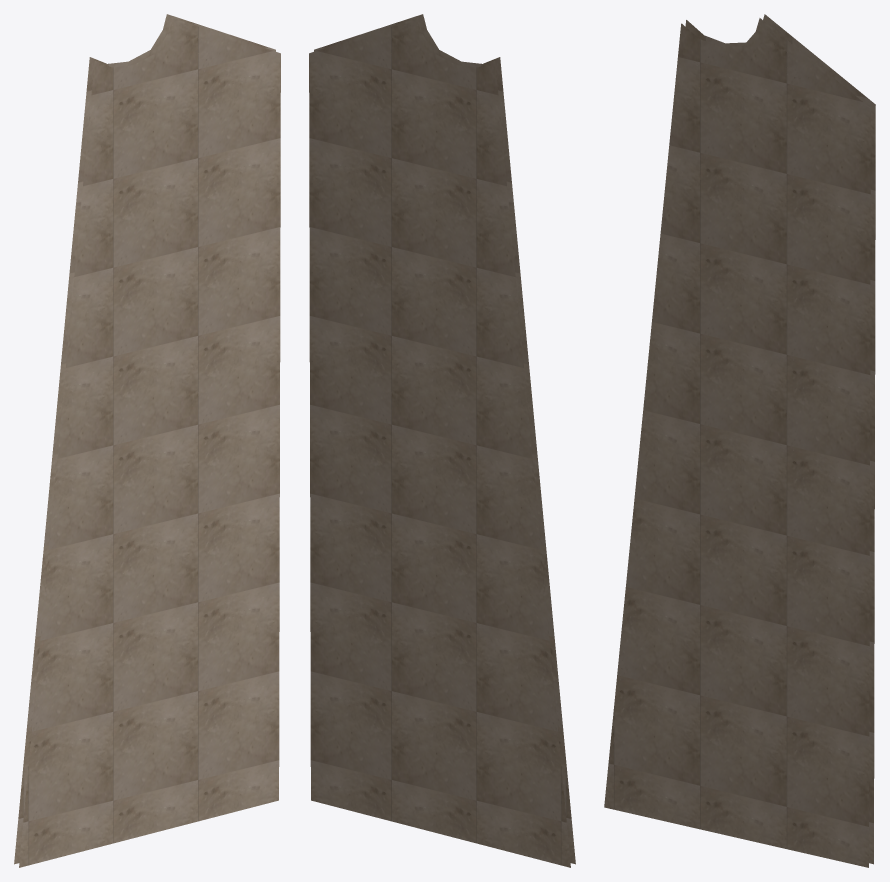
Rendered from floor_75.obj.
3 renders of one model, left to right at view 1: azimuth 30°, elevation 25°; view 2: azimuth 150°, elevation 25°; view 3: azimuth 330°, elevation 25°, orthographic.
Visible parts, largest first — view 1: floor_75; view 2: floor_75; view 3: floor_75.
Part boxes in pixels (x1=…): floor_75: x1=14, y1=14, x2=280, y2=867; floor_75: x1=309, y1=14, x2=575, y2=867; floor_75: x1=604, y1=14, x2=875, y2=867.
Bounding box in the file's own units: 3.09 × 9.15 × 0.1.
1 material, 1 textured.
